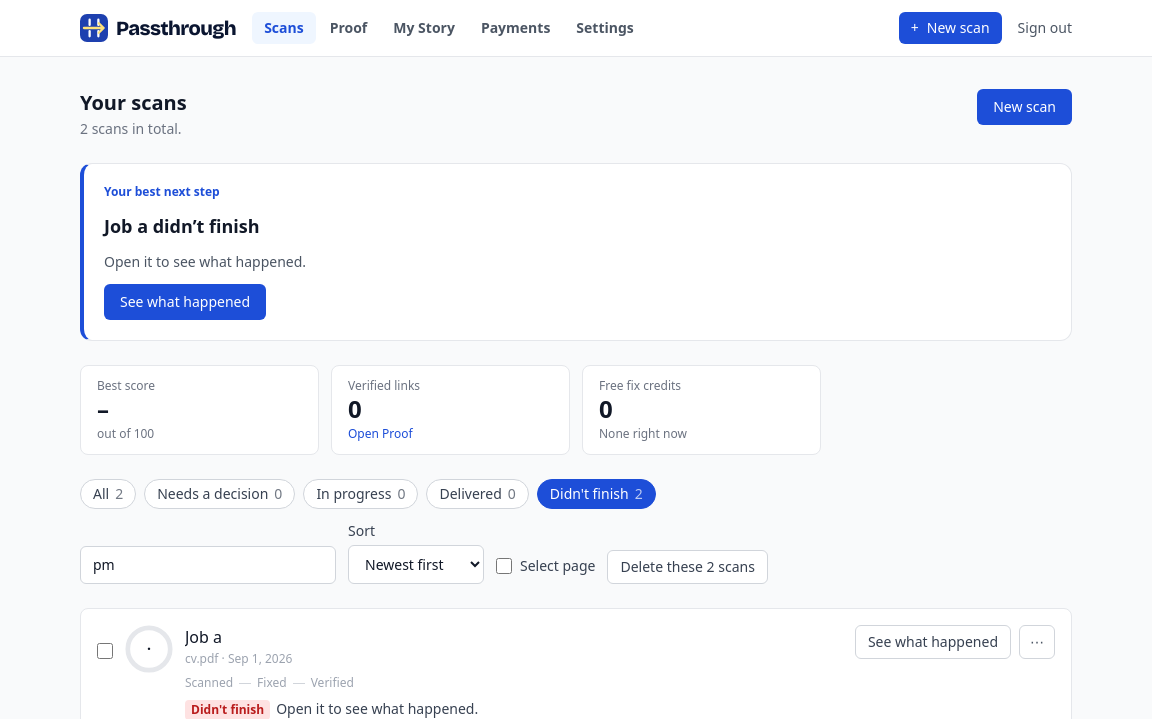
dashboard — delete the scans the filters show › confirming deletes batch by batch with the SAME filters the list uses, then re-reads the list
Click the button "Delete these 2 scans" at (688, 567), box [608,550,768,584]
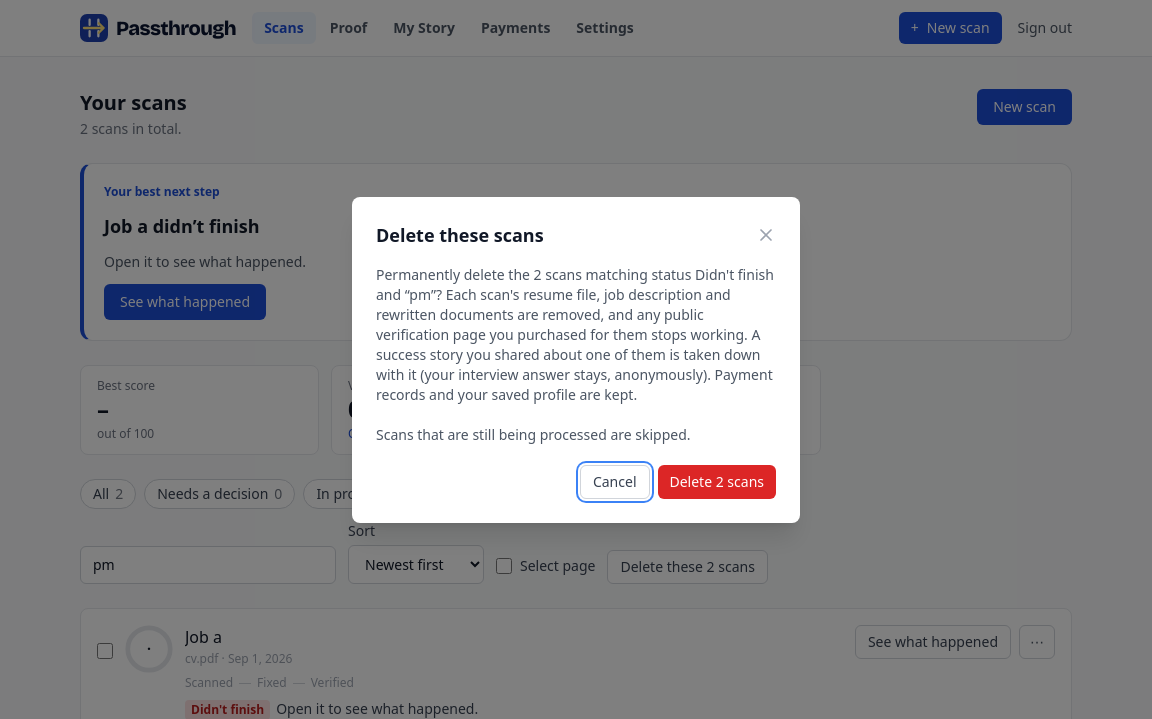
Click the button "Delete 2 scans" at (717, 482), box [658,465,776,499]
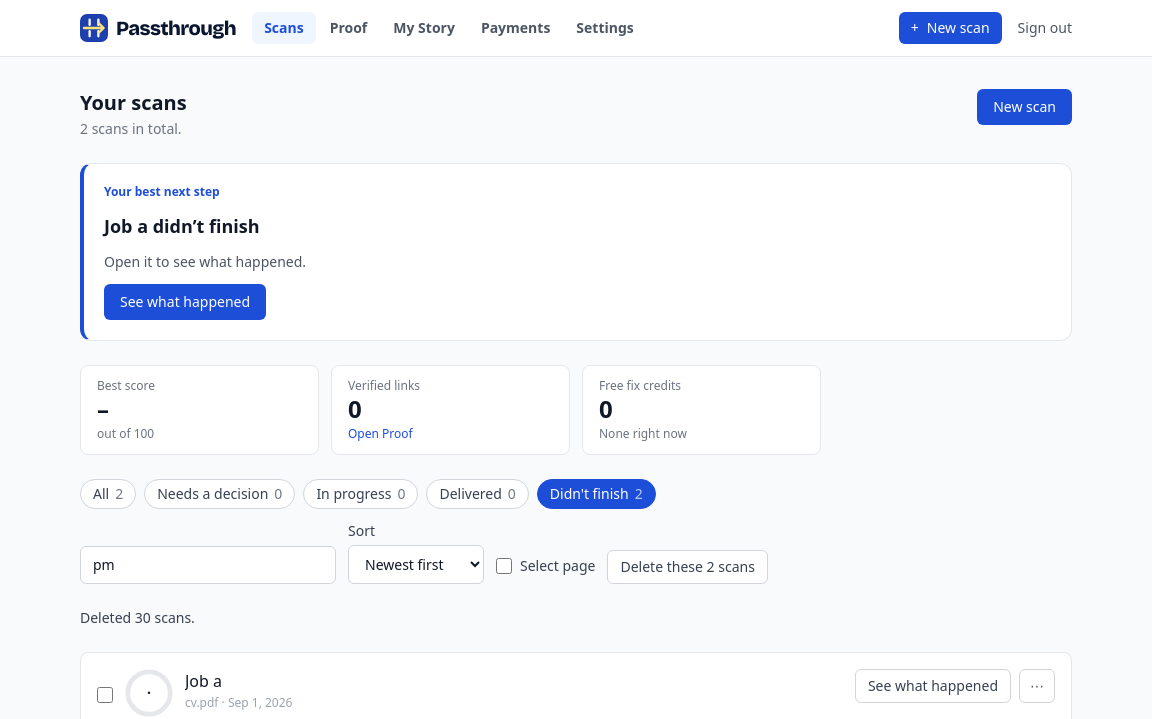
Expected: the text "Deleted 30 scans." is shown, [80,608,195,627]
Expected: the dialog is gone
